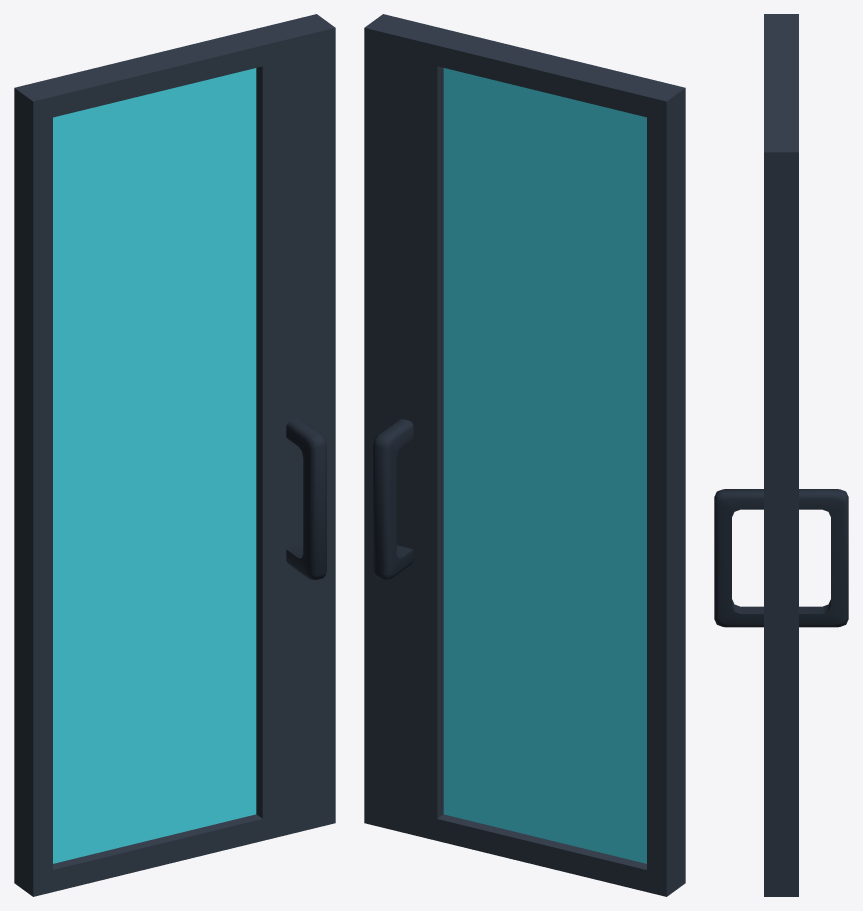
Rendered from SM_Buildings_Office_04_Door_L.fbx.
3 views of the same model, side by side, from view 1: azimuth 30°, elevation 25°; view 2: azimuth 150°, elevation 25°; view 3: azimuth 270°, elevation 25° (orthographic). The views are drawn at different scales.
Parts seen in each view (by area): view 1: SM_Buildings_Office_04_Door_L; view 2: SM_Buildings_Office_04_Door_L; view 3: SM_Buildings_Office_04_Door_L.
Boxes of the visible parts, box(x1,y1,x2,y2) form: SM_Buildings_Office_04_Door_L: box(14, 14, 335, 896); SM_Buildings_Office_04_Door_L: box(364, 14, 685, 896); SM_Buildings_Office_04_Door_L: box(714, 14, 848, 896).
Bounding box in the file's own units: 0.9261 × 2.33 × 0.38.
